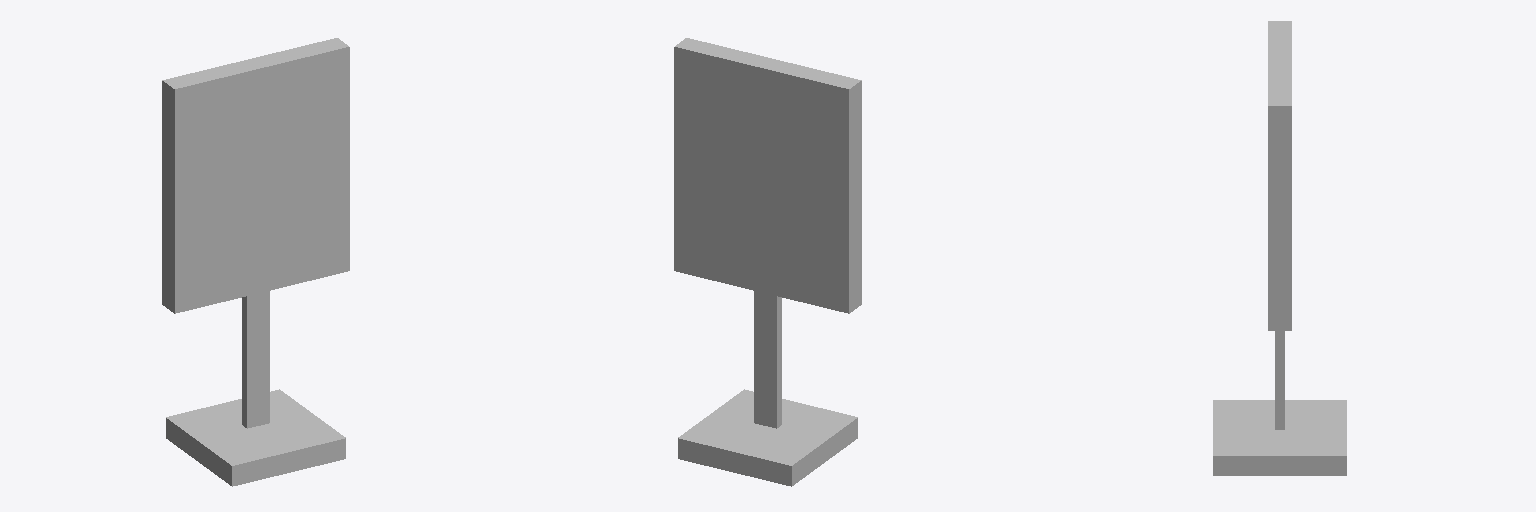
File: sign_white.obj
3 renders of one model, left to right at view 1: azimuth 30°, elevation 25°; view 2: azimuth 150°, elevation 25°; view 3: azimuth 270°, elevation 25°, orthographic.
Visible parts, largest first — view 1: Cube3, Cube4, Cube2; view 2: Cube3, Cube4, Cube2; view 3: Cube4, Cube3, Cube2.
Part boxes in pixels (x1,y1,x2,y2): Cube3: (162, 38, 349, 313); Cube4: (166, 389, 345, 486); Cube2: (242, 291, 269, 428); Cube3: (674, 38, 861, 313); Cube4: (678, 389, 857, 486); Cube2: (754, 291, 781, 428); Cube4: (1213, 400, 1346, 475); Cube3: (1268, 21, 1291, 330); Cube2: (1275, 331, 1284, 429).
Bounding box in the file's own units: 2.45 × 5.15 × 1.62.